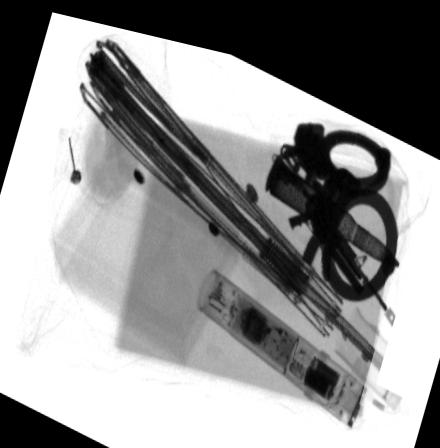Baton: (198, 257, 374, 413)
Bullet: (264, 142, 404, 248)
Gun: (270, 144, 412, 324)
HandCuffs: (280, 109, 400, 285)
